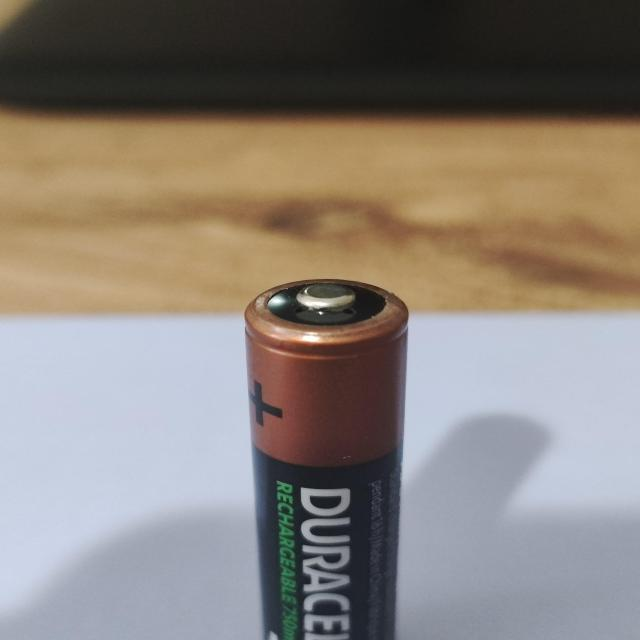AA: (240, 273, 414, 640)
